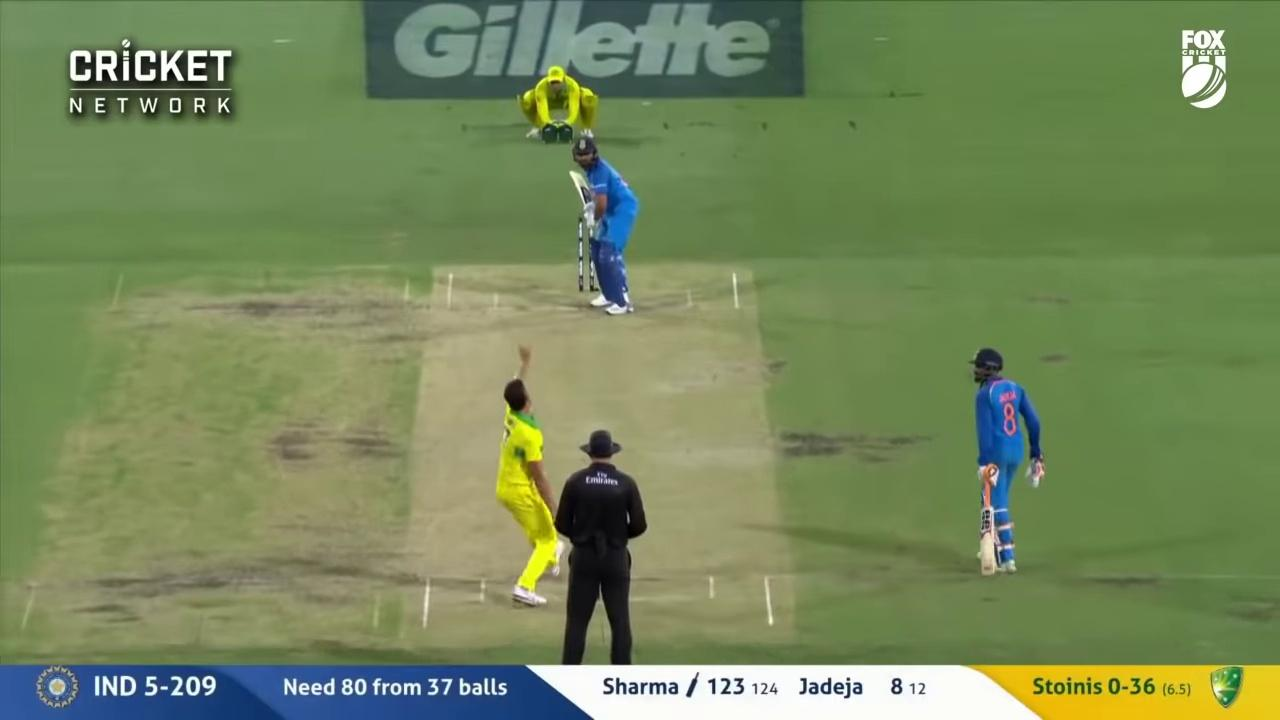batsman: (568, 138, 639, 314)
